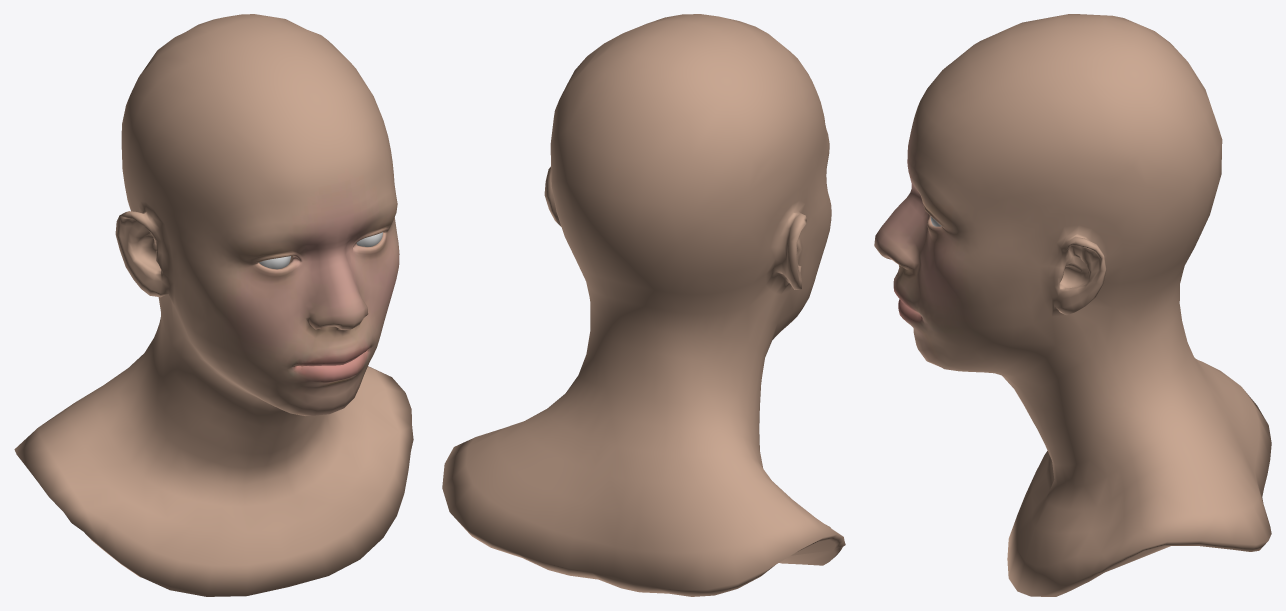
File: modelo.glb
3 renders of one model, left to right at view 1: azimuth 30°, elevation 25°; view 2: azimuth 150°, elevation 25°; view 3: azimuth 270°, elevation 25°, orthographic.
Visible parts, largest first — view 1: Head; view 2: Head; view 3: Head.
Part boxes in pixels (bbox=[...]): Head: bbox=[14, 14, 413, 596]; Head: bbox=[442, 14, 845, 596]; Head: bbox=[874, 14, 1271, 596].
Bounding box in the file's own units: 0.2637 × 0.3638 × 0.2457.
3 materials, 1 textured.
